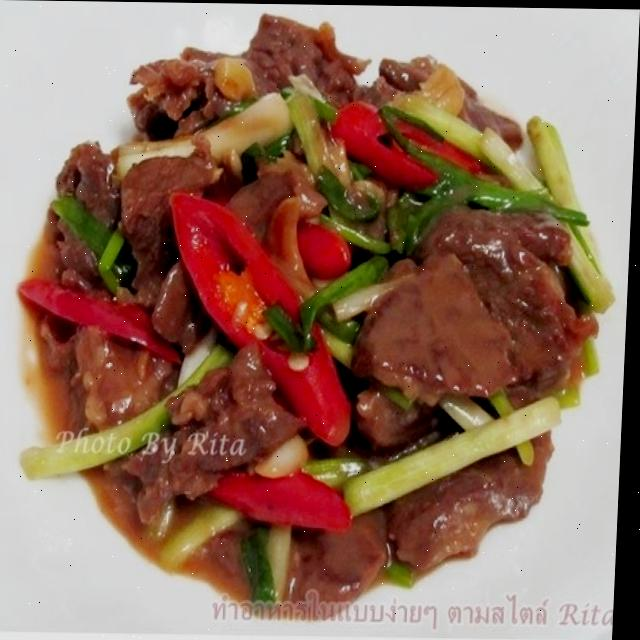牛肉菜式: (4, 0, 620, 629)
